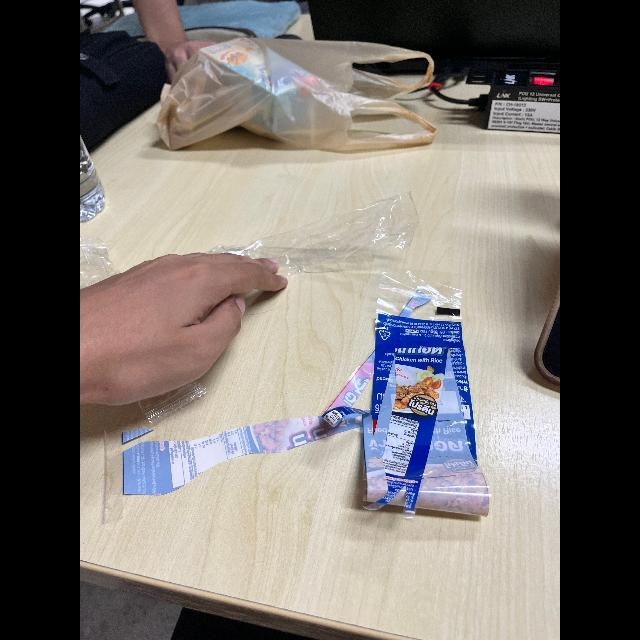scrap_plastic: (308, 288, 492, 546), (225, 180, 437, 300)
